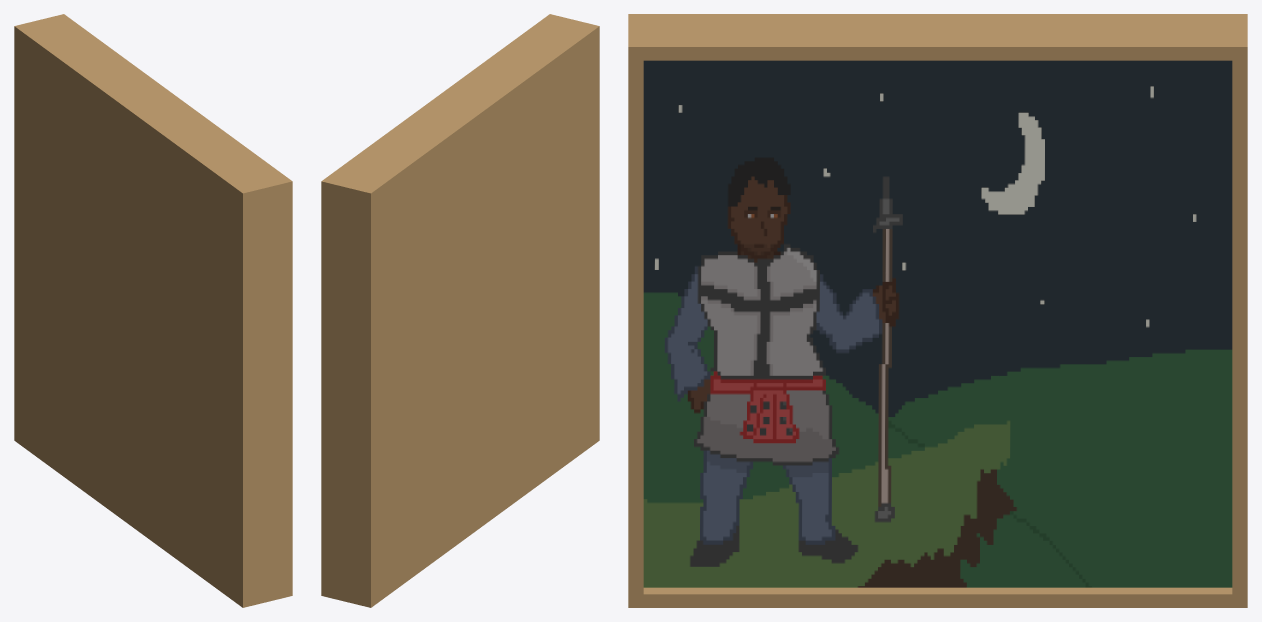
File: KnightPainting.fbx
3 renders of one model, left to right at view 1: azimuth 30°, elevation 25°; view 2: azimuth 150°, elevation 25°; view 3: azimuth 270°, elevation 25°, orthographic. The views are drawn at different scales.
Visible parts, largest first — view 1: Cube.094; view 2: Cube.094; view 3: Cube.094.
Boxes of the visible parts, bbox=[...] form: Cube.094: bbox=[14, 14, 292, 607]; Cube.094: bbox=[321, 14, 599, 607]; Cube.094: bbox=[628, 14, 1247, 607].
Size of the model in its own units: 25.11 by 200 by 200.
